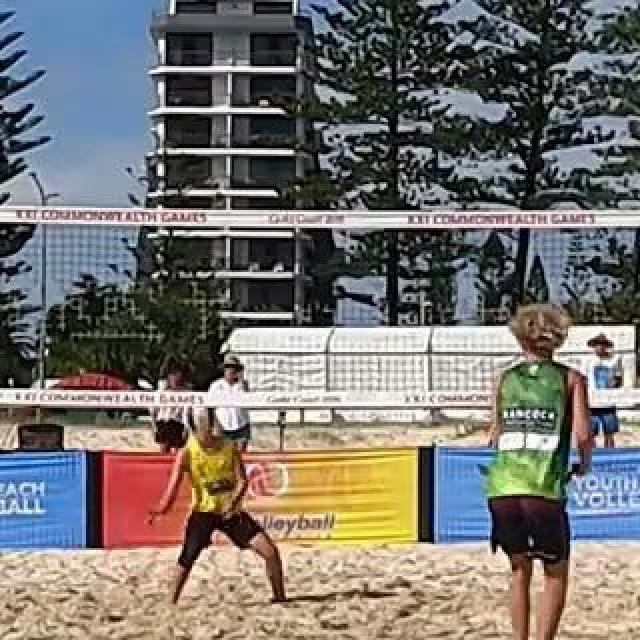volleyball: (182, 401, 218, 435)
